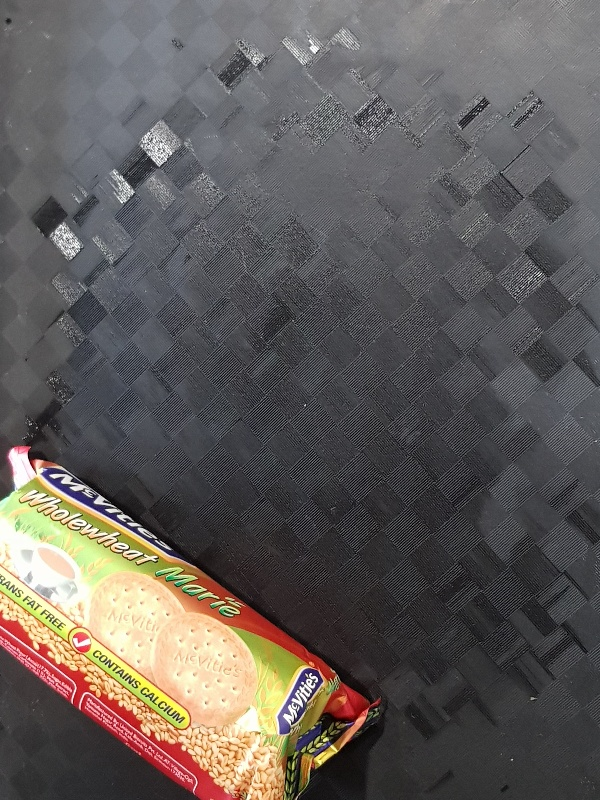McVitie's Wholewheat Marie: (2, 441, 382, 800)
